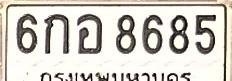5: (194, 13, 216, 54)
6: (16, 13, 37, 54), (142, 14, 163, 54)
8: (115, 14, 136, 54), (168, 14, 188, 54)
A01: (44, 13, 70, 54)
A43: (76, 13, 102, 54)
